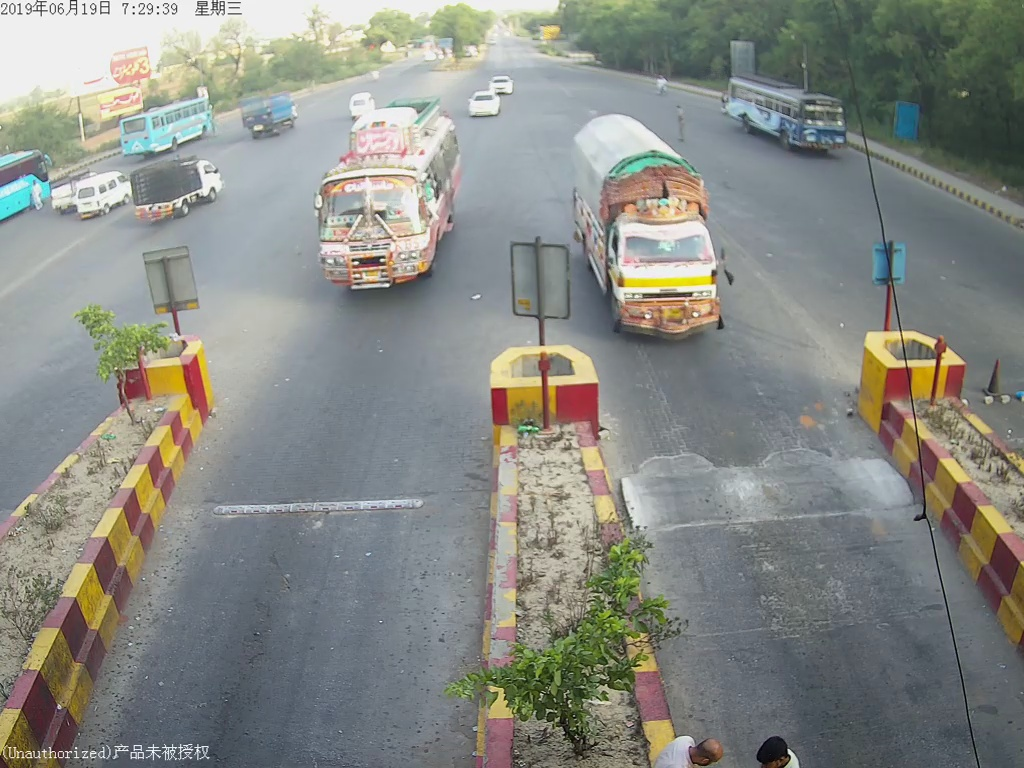Cat-3: (309, 97, 474, 302)
Cat-4: (576, 107, 743, 345)
